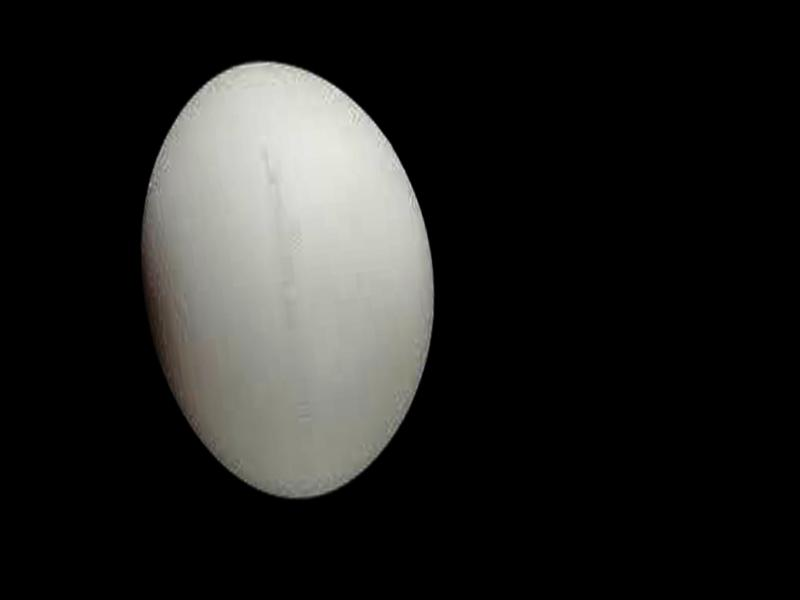Eggs: (116, 41, 455, 513)
